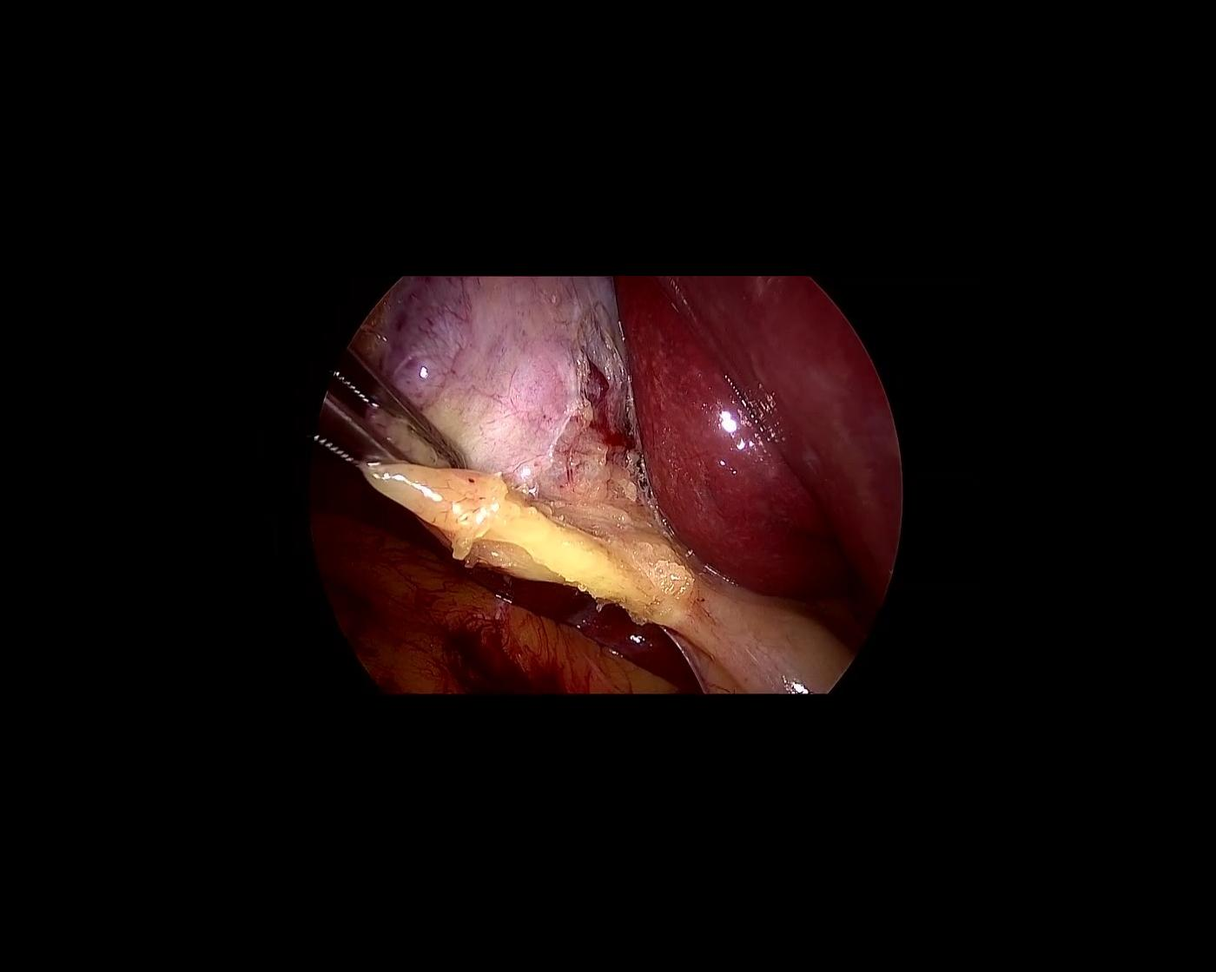Forceps: (284, 343, 473, 531)
Gallbladder: (350, 275, 652, 609)
Liver: (614, 240, 923, 681)
